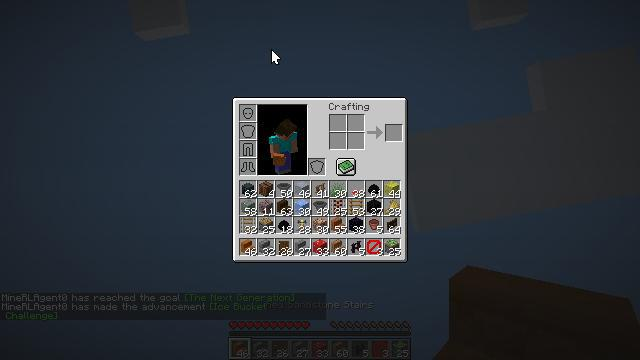cursor: (49, 271, 65, 281)
